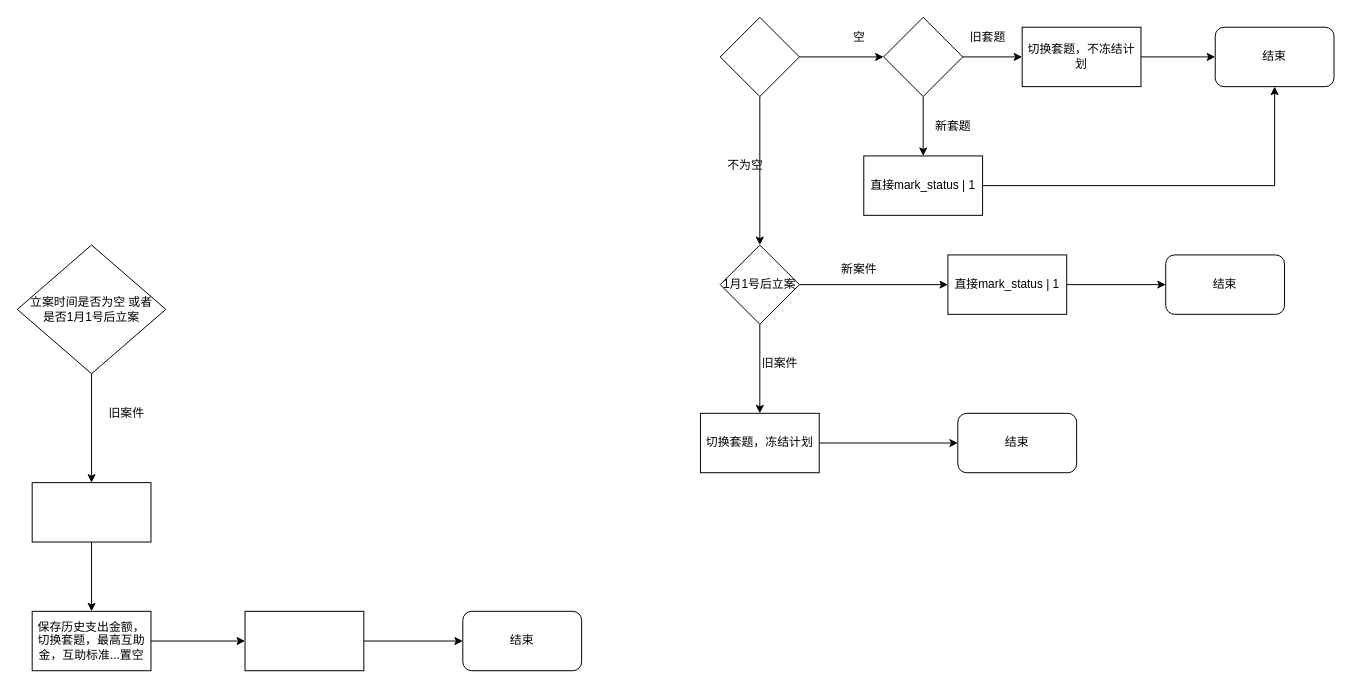
Some shapes in this 1351 by 688 pixel diagram are drawn without their labels. The box of each missing label's shape, as (x1, y1, x2, y2) in pixels:
冻结计划，得到历史支出金额: (31, 482, 151, 542)
是否旧套题: (883, 16, 963, 97)
清空答题表，疑点表: (244, 610, 364, 671)
立案时间是否为空: (719, 16, 799, 97)
